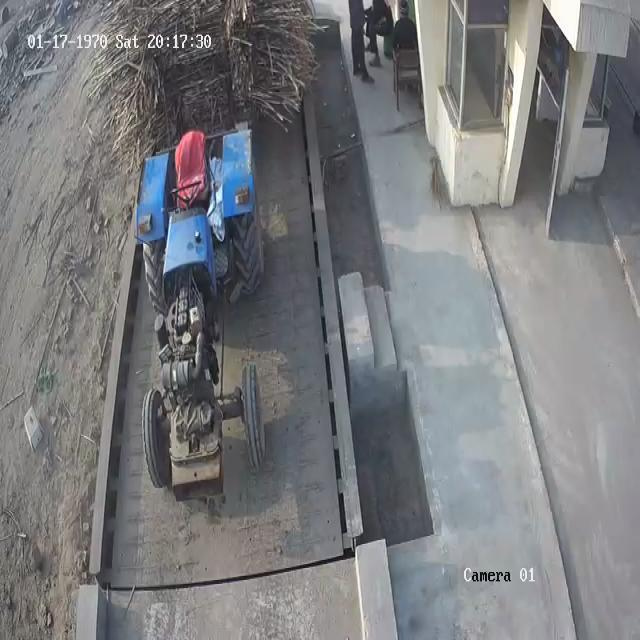Tratores - v5 YOLO V8L 2024-11-13: (134, 127, 283, 500)
